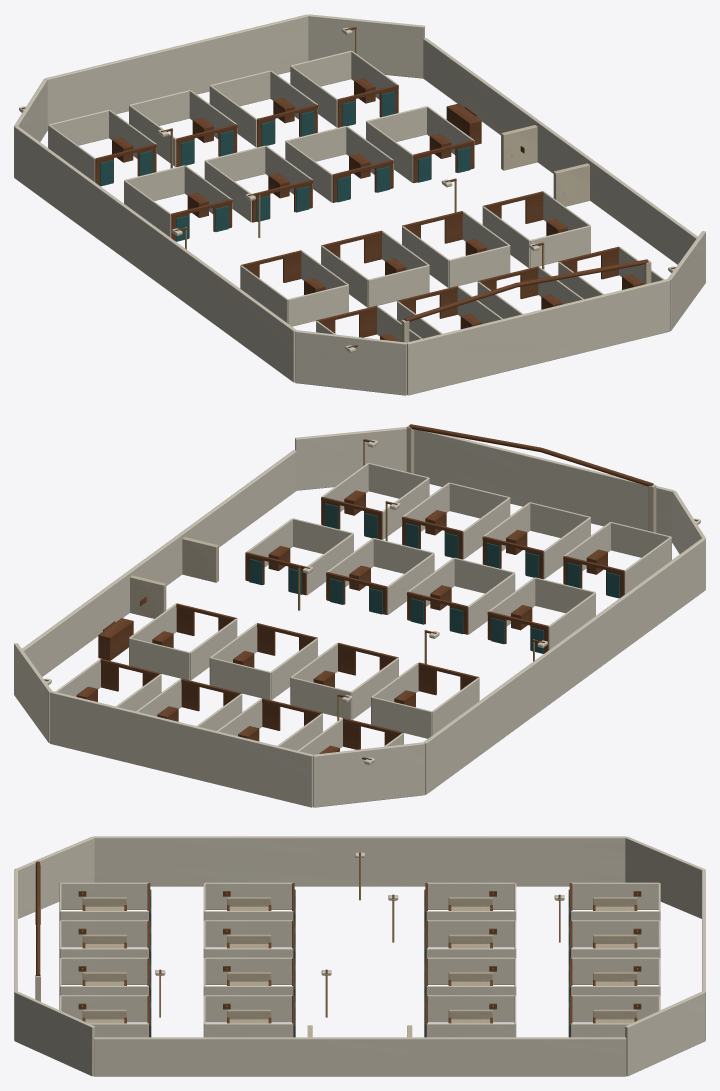
Rendered from SOL_D08_directory_07_source001.glb.
3 renders of one model, top to bottom at view 1: azimuth 30°, elevation 25°; view 2: azimuth 150°, elevation 25°; view 3: azimuth 270°, elevation 25°, orthographic. The views are drawn at different scales.
Visible parts, largest first — view 1: D08_directory_07__changing_shell3, D08_directory_07__changing_shell5, D08_directory_07__changing_shell1, D08_directory_07__changing_shell4, D08_directory_07__entry_b, D08_directory_07__changing_shell0, D08_directory_07__entry_a, D08_directory_07__changing_shell6, D08_directory_07__cubicle_11_back, D08_directory_07__cubicle_12_back, D08_directory_07__cubicle_10_back, D08_directory_07__cubicle_09_back (+44 smaller); view 2: D08_directory_07__changing_shell3, D08_directory_07__changing_shell1, D08_directory_07__changing_shell5, D08_directory_07__changing_shell2, D08_directory_07__entry_b, D08_directory_07__changing_shell6, D08_directory_07__entry_a, D08_directory_07__changing_shell0, D08_directory_07__cubicle_08_back, D08_directory_07__cubicle_06_back, D08_directory_07__cubicle_05_back, D08_directory_07__cubicle_07_back (+45 smaller); view 3: D08_directory_07__changing_shell3, D08_directory_07__entry_a, D08_directory_07__entry_b, D08_directory_07__changing_shell0, D08_directory_07__changing_shell6, D08_directory_07__changing_shell2, D08_directory_07__changing_shell4, D08_directory_07__cubicle_02_right, D08_directory_07__cubicle_14_right, D08_directory_07__cubicle_04_right, D08_directory_07__cubicle_06_right, D08_directory_07__cubicle_08_right (+45 smaller).
Boxes of the visible parts, x1,y1,x2,y2 form: D08_directory_07__changing_shell3: (14, 126, 296, 382); D08_directory_07__changing_shell5: (407, 279, 669, 395); D08_directory_07__changing_shell1: (45, 14, 308, 130); D08_directory_07__changing_shell4: (295, 330, 406, 395); D08_directory_07__entry_b: (423, 38, 588, 173); D08_directory_07__changing_shell0: (308, 14, 424, 78); D08_directory_07__entry_a: (537, 121, 697, 264); D08_directory_07__changing_shell6: (668, 231, 705, 330); D08_directory_07__cubicle_11_back: (368, 265, 429, 307); D08_directory_07__cubicle_12_back: (287, 284, 348, 326); D08_directory_07__cubicle_10_back: (449, 245, 509, 287); D08_directory_07__cubicle_09_back: (530, 225, 590, 268); D08_directory_07__changing_shell3: (423, 538, 705, 794); D08_directory_07__changing_shell1: (50, 691, 312, 807); D08_directory_07__changing_shell5: (414, 429, 674, 542); D08_directory_07__changing_shell2: (313, 742, 424, 807); D08_directory_07__entry_b: (22, 534, 183, 676); D08_directory_07__changing_shell6: (295, 427, 406, 490); D08_directory_07__entry_a: (128, 450, 296, 571); D08_directory_07__changing_shell0: (14, 643, 51, 742); D08_directory_07__cubicle_08_back: (371, 697, 432, 738); D08_directory_07__cubicle_06_back: (210, 657, 270, 699); D08_directory_07__cubicle_05_back: (129, 637, 189, 680); D08_directory_07__cubicle_07_back: (290, 677, 351, 719); D08_directory_07__changing_shell3: (93, 836, 626, 886); D08_directory_07__entry_a: (93, 1037, 409, 1076); D08_directory_07__entry_b: (311, 1037, 626, 1076); D08_directory_07__changing_shell0: (625, 991, 705, 1076); D08_directory_07__changing_shell6: (14, 991, 94, 1076); D08_directory_07__changing_shell2: (625, 836, 705, 918); D08_directory_07__changing_shell4: (14, 836, 94, 918); D08_directory_07__cubicle_02_right: (571, 957, 659, 984); D08_directory_07__cubicle_14_right: (60, 957, 148, 984); D08_directory_07__cubicle_04_right: (571, 882, 658, 909); D08_directory_07__cubicle_06_right: (427, 957, 514, 984); D08_directory_07__cubicle_08_right: (427, 882, 514, 909).
Bounding box in the file's own units: 40.86 × 7 × 62.36.
6 materials, 6 textured.
